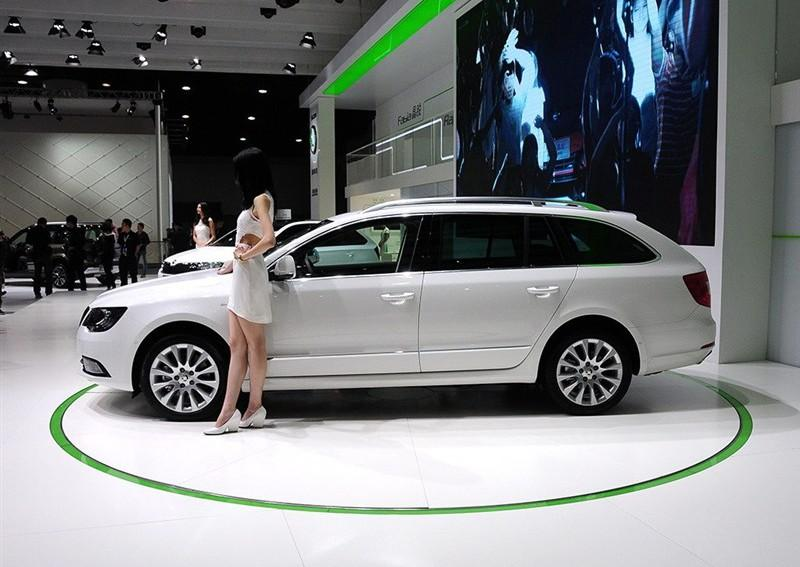Wagon: (75, 195, 718, 421)
